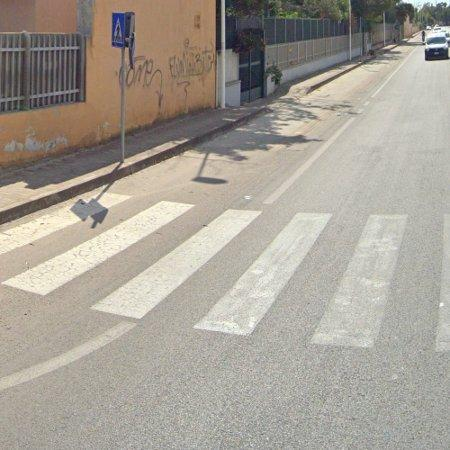crosswalk: (0, 189, 450, 349)
